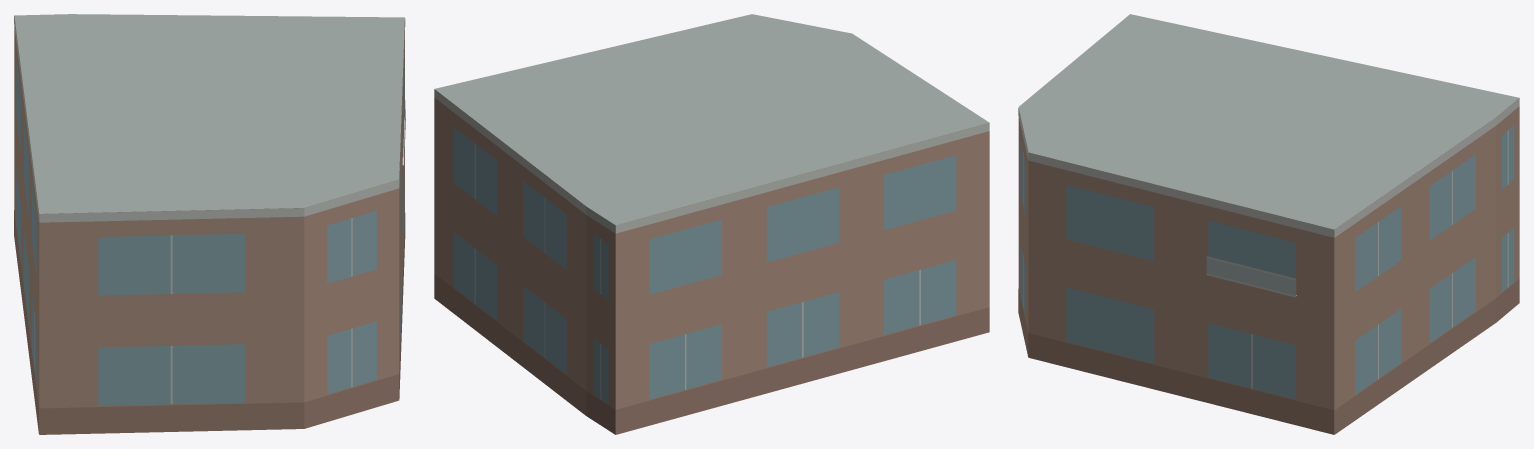
Rendered from survey-upis-32642379.glb.
3 views of the same model, side by side, from view 1: azimuth 30°, elevation 25°; view 2: azimuth 150°, elevation 25°; view 3: azimuth 270°, elevation 25° (orthographic). The views are drawn at different scales.
Parts seen in each view (by area): view 1: survey-upis-32642379.tmp; view 2: survey-upis-32642379.tmp; view 3: survey-upis-32642379.tmp.
Part boxes in pixels (bbox=[...]): survey-upis-32642379.tmp: bbox=[14, 14, 405, 434]; survey-upis-32642379.tmp: bbox=[434, 14, 989, 434]; survey-upis-32642379.tmp: bbox=[1018, 14, 1519, 434].
Size of the model in its own units: 13.75 by 6.1 by 13.51.
